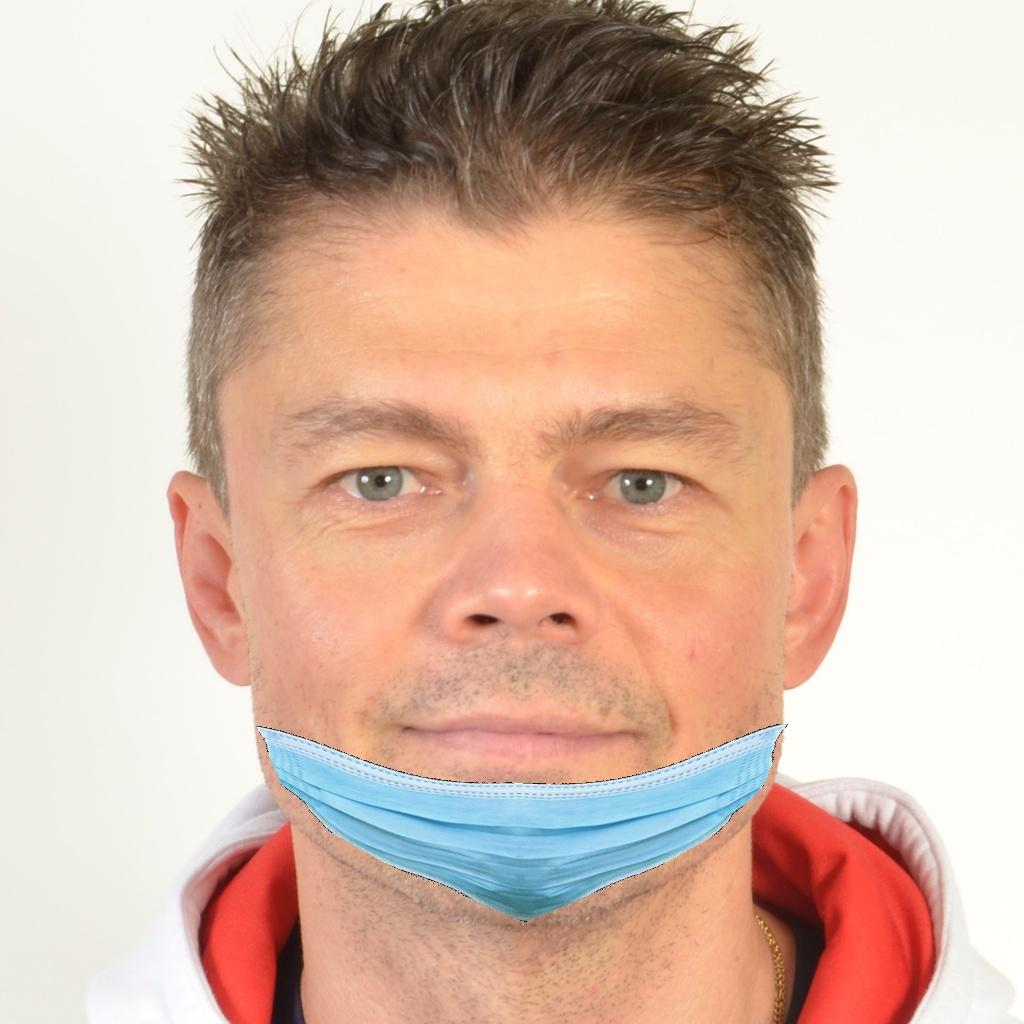Máscara Incorreta: (185, 198, 812, 923)
